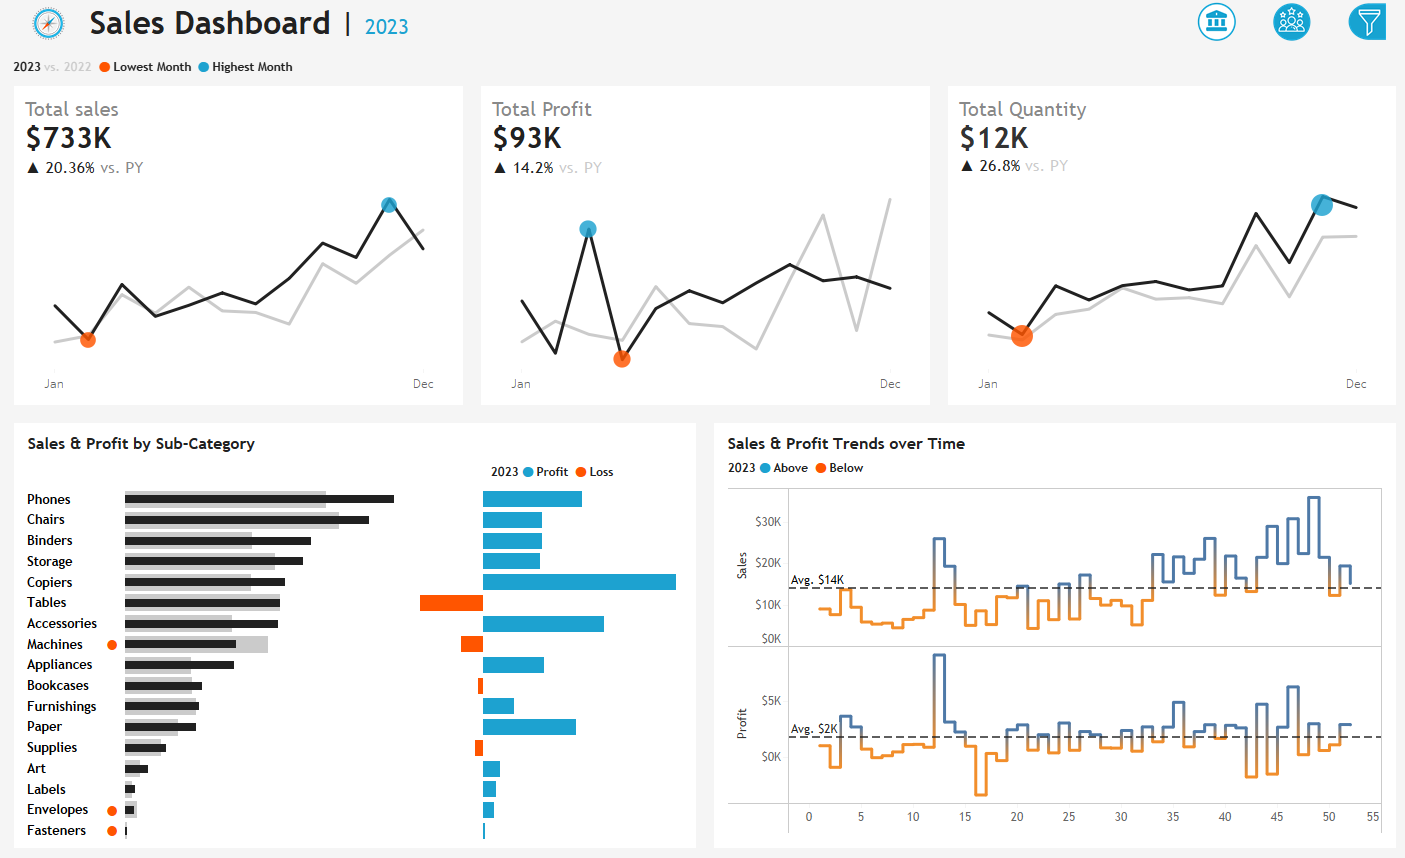

This screenshot's page, from the dashboard's own definition file:
{"tool":"tableau","page":{"name":"Sales Dashboard","canvas":[1400,850],"ordinal":1},"visuals":[{"type":"dashboard-object","box":[1173,0,76,47]},{"type":"dashboard-object","box":[1249,0,75,47]},{"type":"dashboard-object","box":[1324,0,75,47]},{"type":"image","param":"Image/Icon - Logo.png","box":[8,8,70,34]},{"type":"text","box":[78,8,1083,34]},{"type":"worksheet","title":"Legend KPI","mark":"Automatic","box":[0,50,1400,38]},{"type":"text","box":[1163,72,227,36]},{"type":"worksheet","title":"KPI Sales","mark":"Automatic","rows":["Calculation_835136284221091844"],"cols":["Order Date"],"box":[0,88,467,328]},{"type":"worksheet","title":"KPI Profit","mark":"Automatic","rows":["Calculation_835136284426362892"],"cols":["Order Date"],"box":[467,88,467,328]},{"type":"worksheet","title":"KPI Quantity","mark":"Automatic","rows":["Calculation_835136284775731222"],"cols":["Order Date"],"box":[934,88,466,328]},{"type":"parameter","param":"[Parameters].[Parameter 1]","box":[1163,108,227,62]},{"type":"blank","box":[1163,170,227,35]},{"type":"text","box":[1163,205,227,32]},{"type":"filter","title":"KPI Sales","param":"[federated.18r58u51jcdbuf13nqnum04pygnj].[none:Category:nk]","box":[1163,237,227,62]},{"type":"filter","title":"KPI Sales","param":"[federated.18r58u51jcdbuf13nqnum04pygnj].[none:Sub-Category:nk]","box":[1163,299,227,62]},{"type":"blank","box":[1163,361,227,88]},{"type":"text","box":[16,432,668,27]},{"type":"text","box":[716,432,668,27]},{"type":"text","box":[1163,449,227,32]},{"type":"worksheet","title":"Legend Sub-Category","mark":"Automatic","box":[16,459,463,32]},{"type":"text","box":[479,459,205,32]},{"type":"text","box":[716,459,668,24]},{"type":"filter","title":"KPI Sales","param":"[federated.18r58u51jcdbuf13nqnum04pygnj].[none:Region:nk]","box":[1163,481,227,66]},{"type":"worksheet","title":"Weekly Trends","mark":"Line","rows":["Calculation_835136284199010304","Calculation_835136284424790025"],"cols":["Order Date"],"box":[716,483,668,360]},{"type":"worksheet","title":"Sub-Category Comparisons","mark":"Bar","rows":["Sub-Category","Calculation_835136284794195993"],"cols":["Calculation_835136284199653377","Calculation_835136284199010304","Calculation_835136284424790025"],"box":[16,491,668,351.9]},{"type":"filter","title":"KPI Sales","param":"[federated.18r58u51jcdbuf13nqnum04pygnj].[none:State:nk]","box":[1163,547,227,62]},{"type":"filter","title":"KPI Sales","param":"[federated.18r58u51jcdbuf13nqnum04pygnj].[none:City:nk]","box":[1163,609,227,62]}]}

Visuals, with their boxes in screenshot pixels (x1, y1, x2, y2), scaled from the page's 1400x850 canvas onto the 1405x858 screenshot:
dashboard-object: 1177/0/1253/47
dashboard-object: 1253/0/1329/47
dashboard-object: 1329/0/1404/47
image: 8/8/78/42
text: 78/8/1165/42
"Legend KPI" worksheet: 0/50/1404/89
text: 1167/73/1395/109
"KPI Sales" worksheet: 0/89/469/420
"KPI Profit" worksheet: 469/89/937/420
"KPI Quantity" worksheet: 937/89/1404/420
parameter: 1167/109/1395/172
blank: 1167/172/1395/207
text: 1167/207/1395/239
"KPI Sales" filter: 1167/239/1395/302
"KPI Sales" filter: 1167/302/1395/364
blank: 1167/364/1395/453
text: 16/436/686/463
text: 719/436/1389/463
text: 1167/453/1395/486
"Legend Sub-Category" worksheet: 16/463/481/496
text: 481/463/686/496
text: 719/463/1389/488
"KPI Sales" filter: 1167/486/1395/552
"Weekly Trends" worksheet (Line marks): 719/488/1389/851
"Sub-Category Comparisons" worksheet (Bar marks): 16/496/686/851
"KPI Sales" filter: 1167/552/1395/615
"KPI Sales" filter: 1167/615/1395/677
